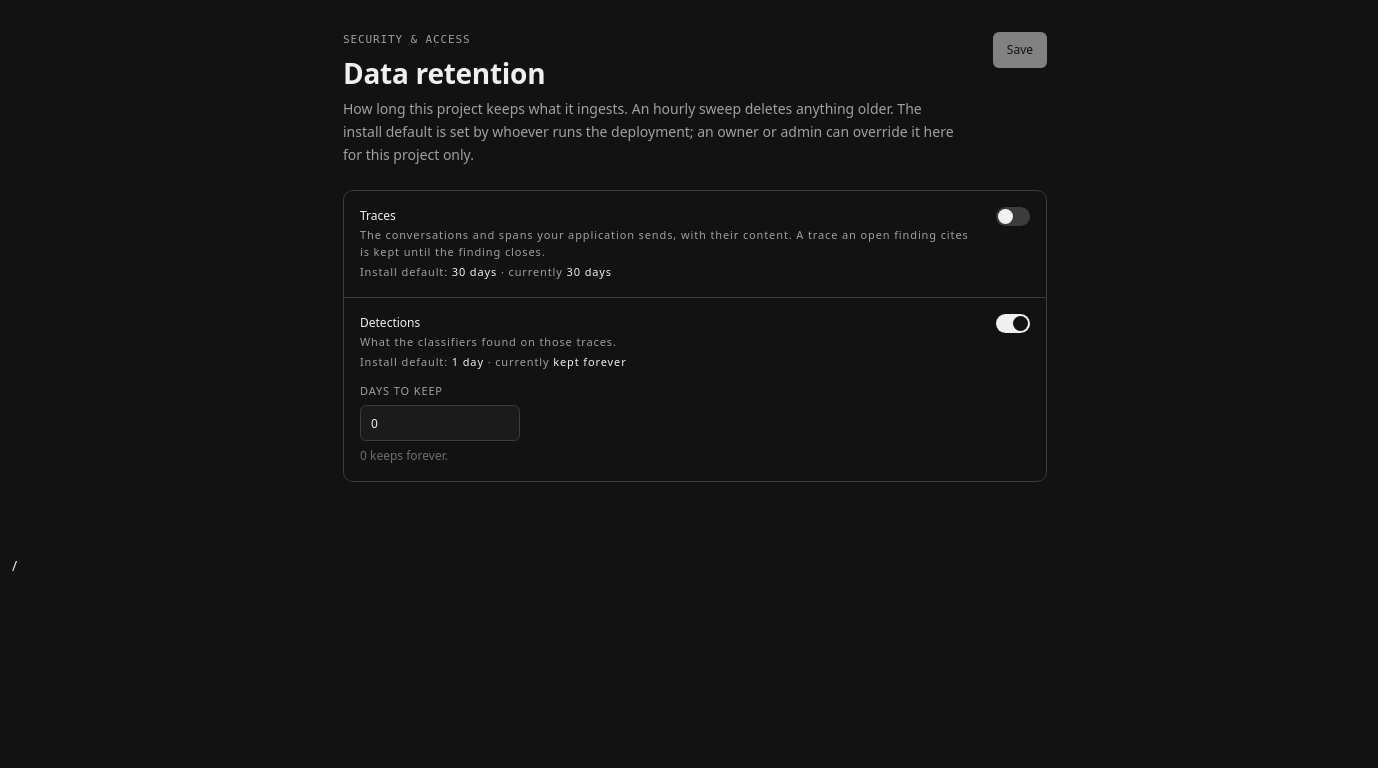
Test case: saving › sends a new override as a trimmed number and keeps the other class as it was
Expected: the text "Traces" is shown, x1=360 y1=207 x2=396 y2=224
Click the 1st switch named "Override for this project" at (1013, 217), box x1=996 y1=207 x2=1030 y2=226
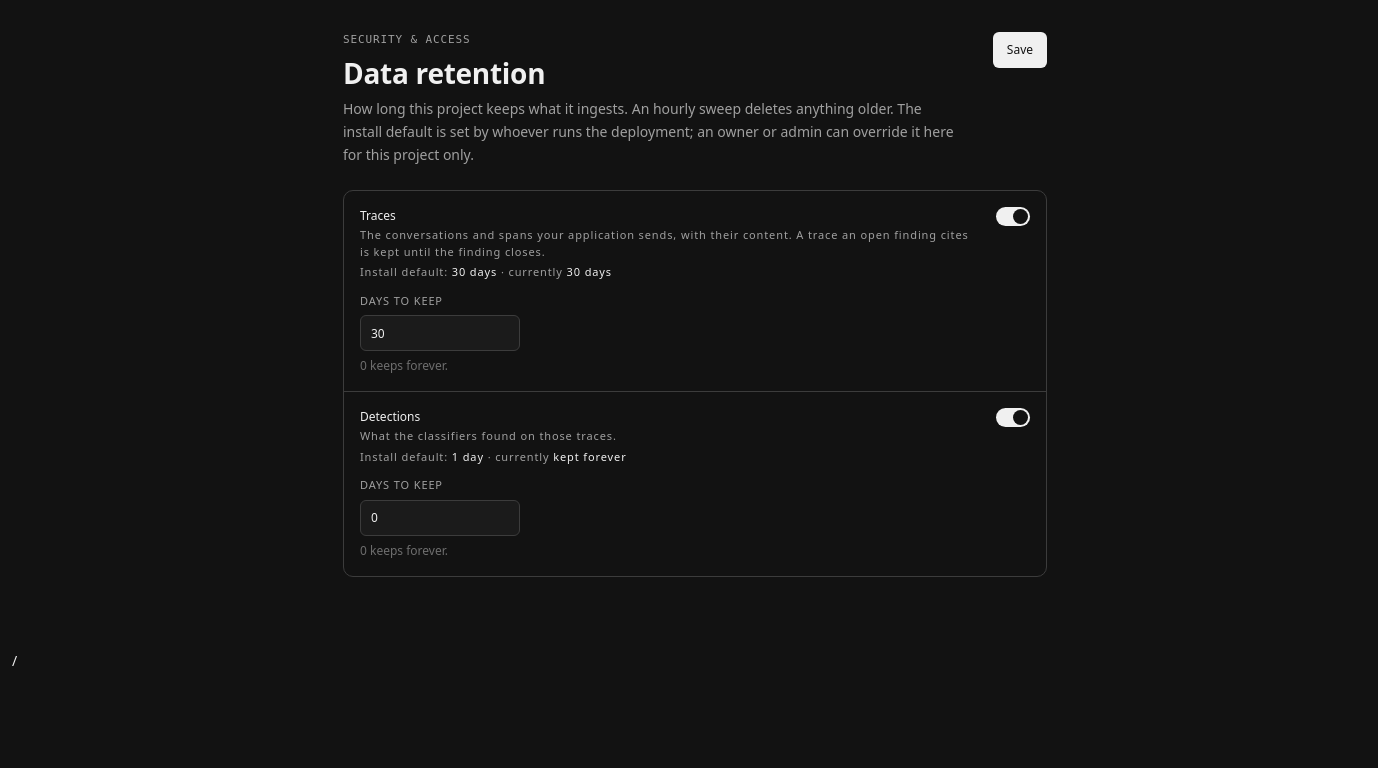
Result: the 1st field labelled "Days to keep" holds "30"
Replace the text in the 1st field labelled "Days to keep" with " 7 " at (440, 333), box x1=360 y1=315 x2=520 y2=351
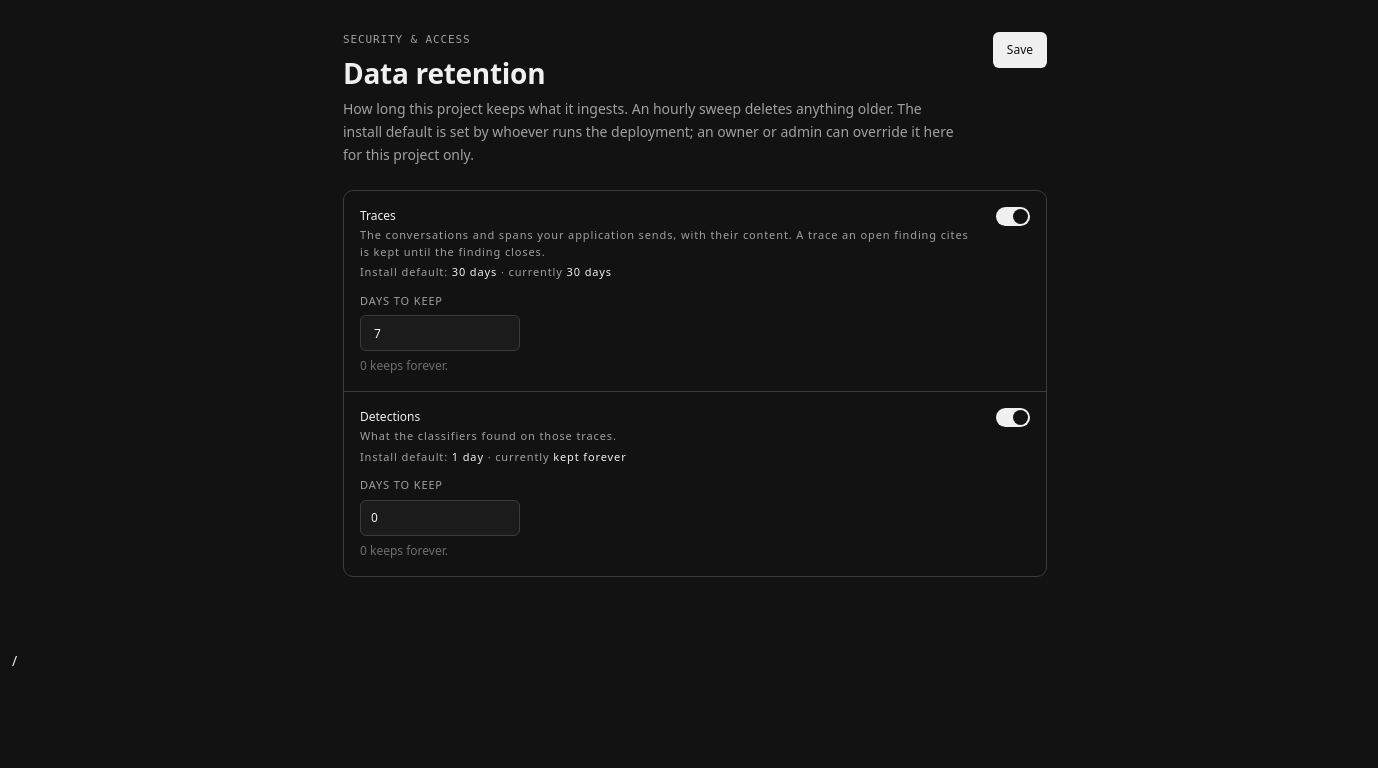
Click the button "Save" at (1020, 50), box x1=993 y1=32 x2=1047 y2=68
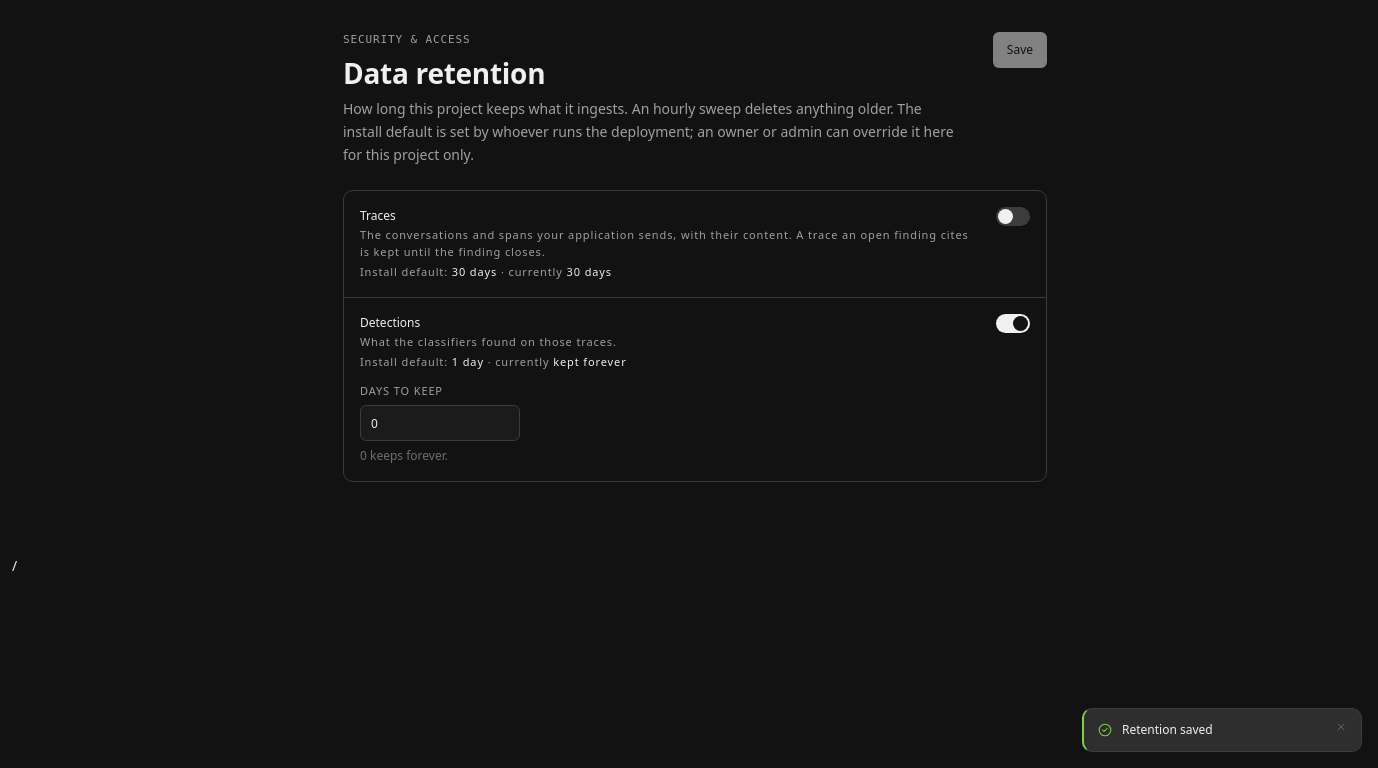
Result: the text "Retention saved" is shown at x1=1122 y1=721 x2=1213 y2=738
